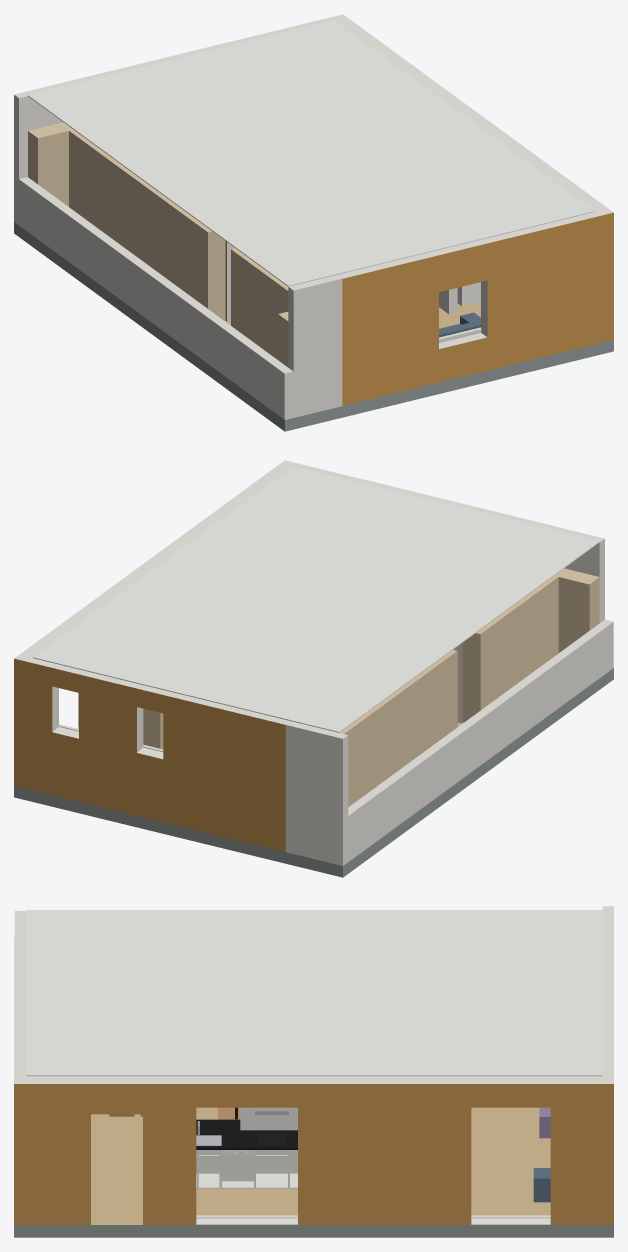
3 views of the same model, one above another, from view 1: azimuth 30°, elevation 25°; view 2: azimuth 150°, elevation 25°; view 3: azimuth 270°, elevation 25° (orthographic). The views are drawn at different scales.
Parts seen in each view (by area): view 1: MOB - Laque blanche, Mur par défaut, Maçonnerie - Enduit, MOB - Etageres bouleau, Maçonnerie - Béton, MOB - Parquet chêne clair; view 2: MOB - Laque blanche, Maçonnerie - Enduit, Mur par défaut, MOB - Etageres bouleau, Maçonnerie - Béton; view 3: MOB - Laque blanche, Maçonnerie - Enduit, MOB - Parquet chêne clair, Mur par défaut, Maçonnerie - Béton, MOB - Plan de travail noir, MOB - Tissu bleu, MOB - Inox.
Part boxes in pixels (box(x1,y1,x2,y2)): MOB - Laque blanche: box(28, 20, 594, 305); Mur par défaut: box(14, 14, 613, 419); Maçonnerie - Enduit: box(225, 212, 613, 405); MOB - Etageres bouleau: box(28, 122, 288, 367); Maçonnerie - Béton: box(14, 222, 613, 431); MOB - Parquet chêne clair: box(225, 301, 480, 419); MOB - Laque blanche: box(33, 467, 599, 732); Maçonnerie - Enduit: box(14, 643, 462, 851); Mur par défaut: box(14, 460, 613, 865); MOB - Etageres bouleau: box(143, 568, 599, 806); Maçonnerie - Béton: box(14, 668, 613, 877); MOB - Laque blanche: box(26, 910, 602, 1188); Maçonnerie - Enduit: box(14, 1084, 613, 1224); MOB - Parquet chêne clair: box(91, 1107, 550, 1224); Mur par défaut: box(14, 906, 613, 1224); Maçonnerie - Béton: box(14, 1225, 613, 1237); MOB - Plan de travail noir: box(196, 1119, 297, 1149); MOB - Tissu bleu: box(533, 1168, 550, 1202); MOB - Inox: box(196, 1111, 288, 1145).
Size of the model in its own units: 7.44 by 3.02 by 10.61.
